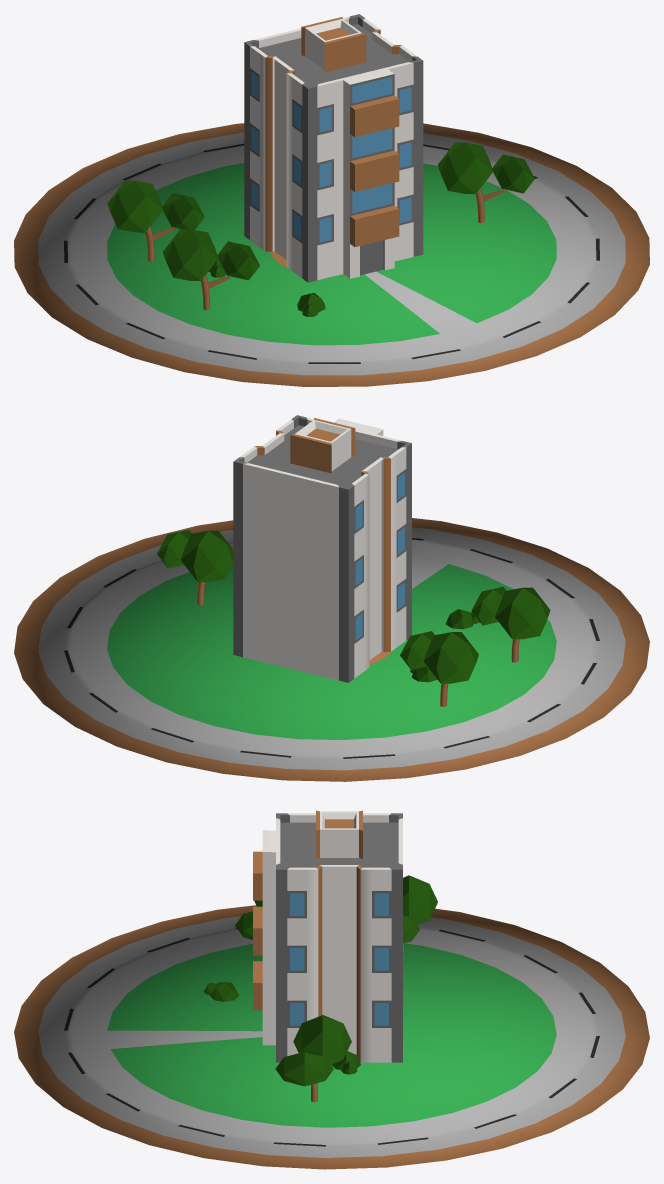
The picture shows the model from 3 angles, top to bottom: view 1: azimuth 30°, elevation 25°; view 2: azimuth 150°, elevation 25°; view 3: azimuth 270°, elevation 25°; orthographic projection.
Visible parts, largest first — view 1: Sphere001, Box001; view 2: Sphere001, Box001; view 3: Sphere001, Box001.
Part boxes in pixels (bbox=[...]): Sphere001: bbox=[14, 123, 649, 386]; Box001: bbox=[244, 14, 423, 282]; Sphere001: bbox=[14, 518, 649, 781]; Box001: bbox=[233, 415, 411, 682]; Sphere001: bbox=[14, 875, 649, 1169]; Box001: bbox=[253, 810, 402, 1062].
Bounding box in the file's own units: 144 × 56.93 × 144.
